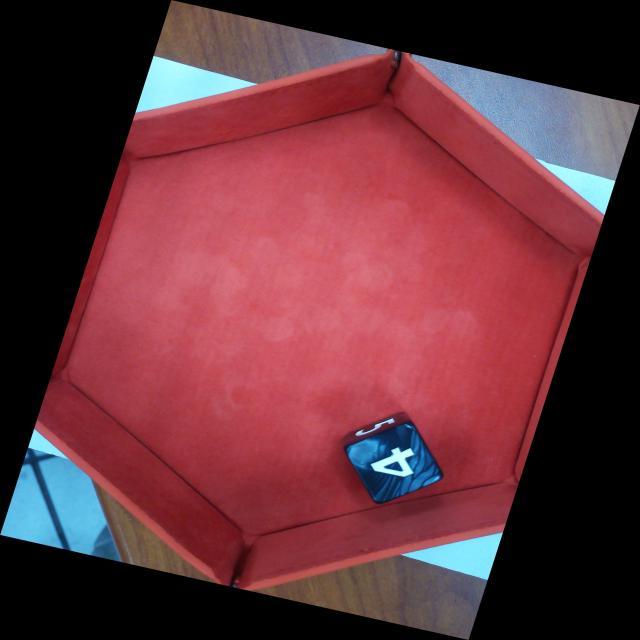dice: (343, 417, 447, 509)
